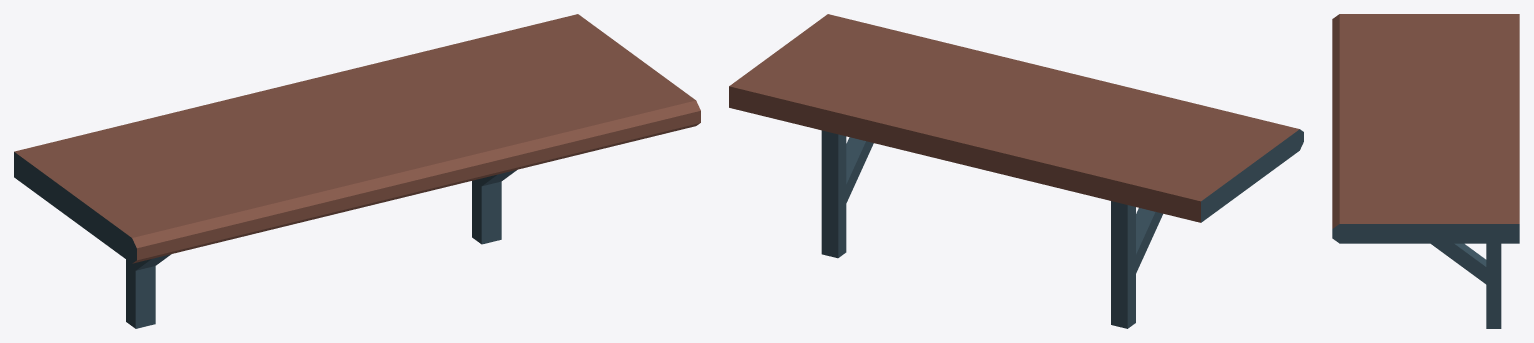
Rendered from Shelf.fbx.
3 views of the same model, side by side, from view 1: azimuth 30°, elevation 25°; view 2: azimuth 150°, elevation 25°; view 3: azimuth 270°, elevation 25° (orthographic). The views are drawn at different scales.
Parts seen in each view (by area): view 1: Shelf1; view 2: Shelf1; view 3: Shelf1.
Part boxes in pixels (left/top/right/bottom): Shelf1: left=14, top=14, right=700, bottom=328; Shelf1: left=729, top=14, right=1303, bottom=328; Shelf1: left=1332, top=14, right=1519, bottom=328.
Bounding box in the file's own units: 2.65 × 0.8338 × 1.
